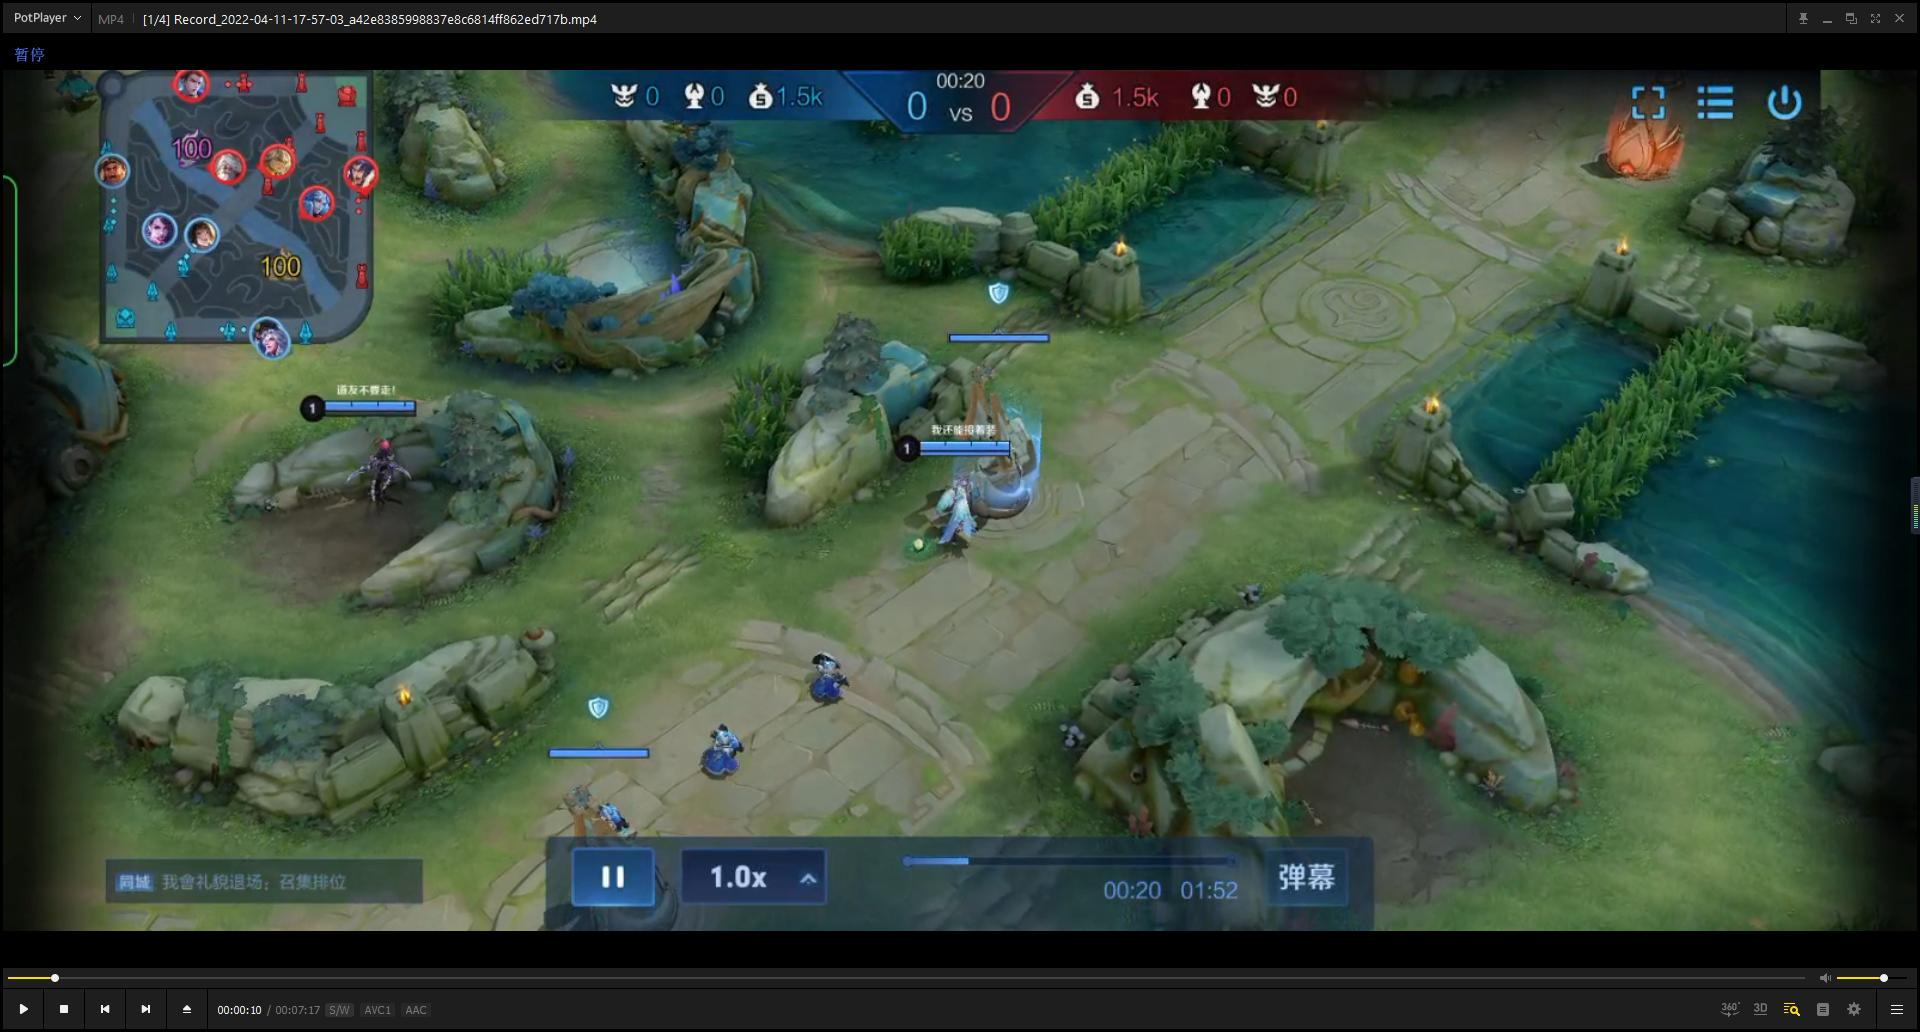Hero: (338, 431, 413, 517), (912, 472, 984, 555)
Solider: (665, 714, 774, 796), (783, 628, 873, 723)
Tower: (935, 327, 1117, 564), (485, 752, 709, 930), (1591, 83, 1704, 189)
